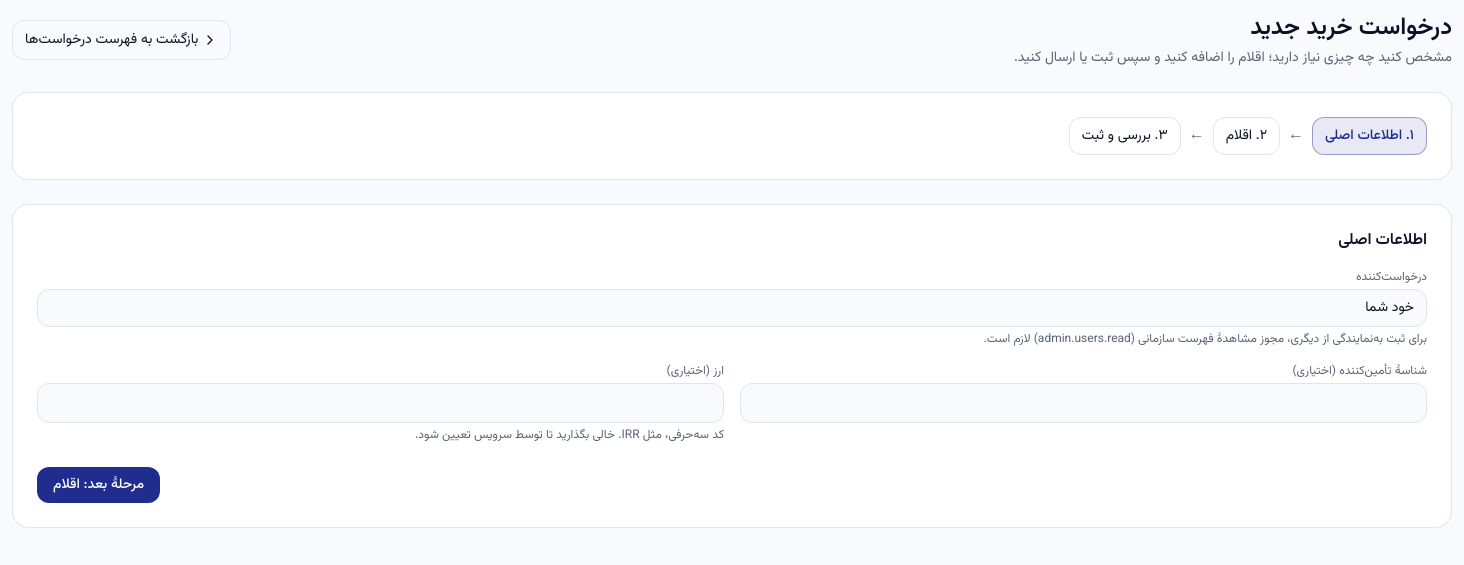
Scenario: CommercePurchaseCreateView › blocks an invalid currency at the presentation layer and stays on step 1
The width and height of the screenshot is (1464, 565).
Not a three-letter code — the field uppercases, so type exactly two letters.
Step 1. Type "ri" into the field labelled "ارز (اختیاری)" → coordinates (380, 403), box [37, 383, 724, 423]
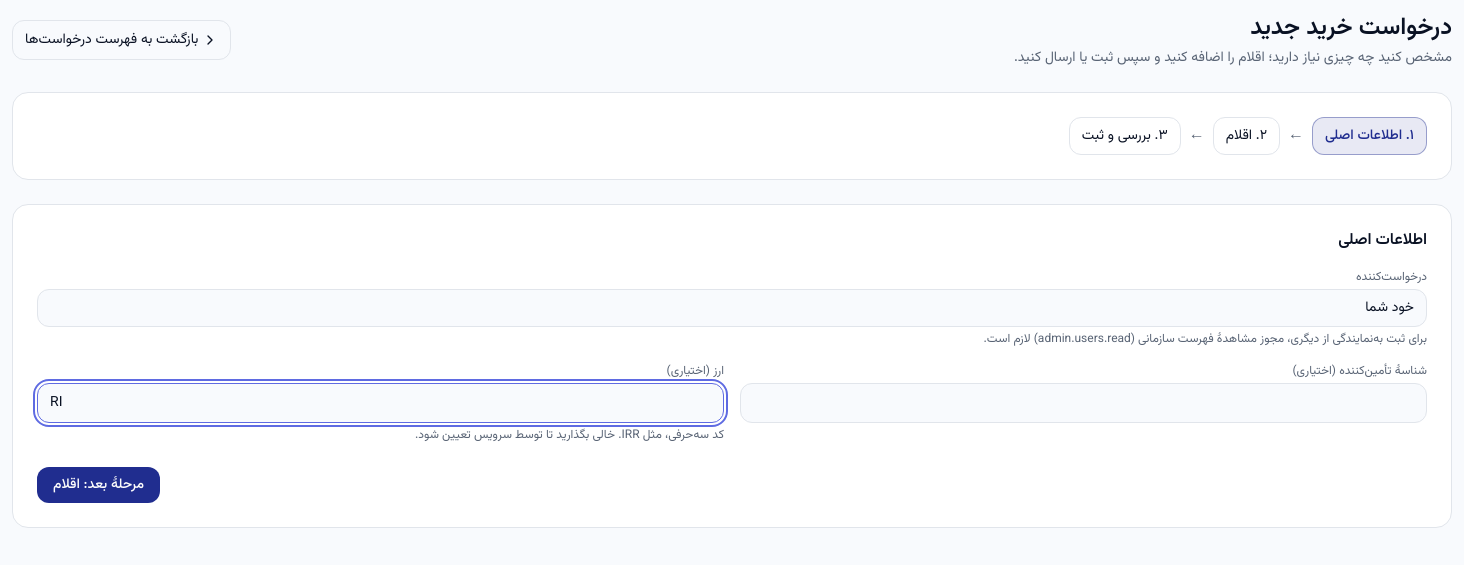
Step 2. Click the button with test id "commerce-create-next" → coordinates (99, 485), box [37, 467, 160, 503]
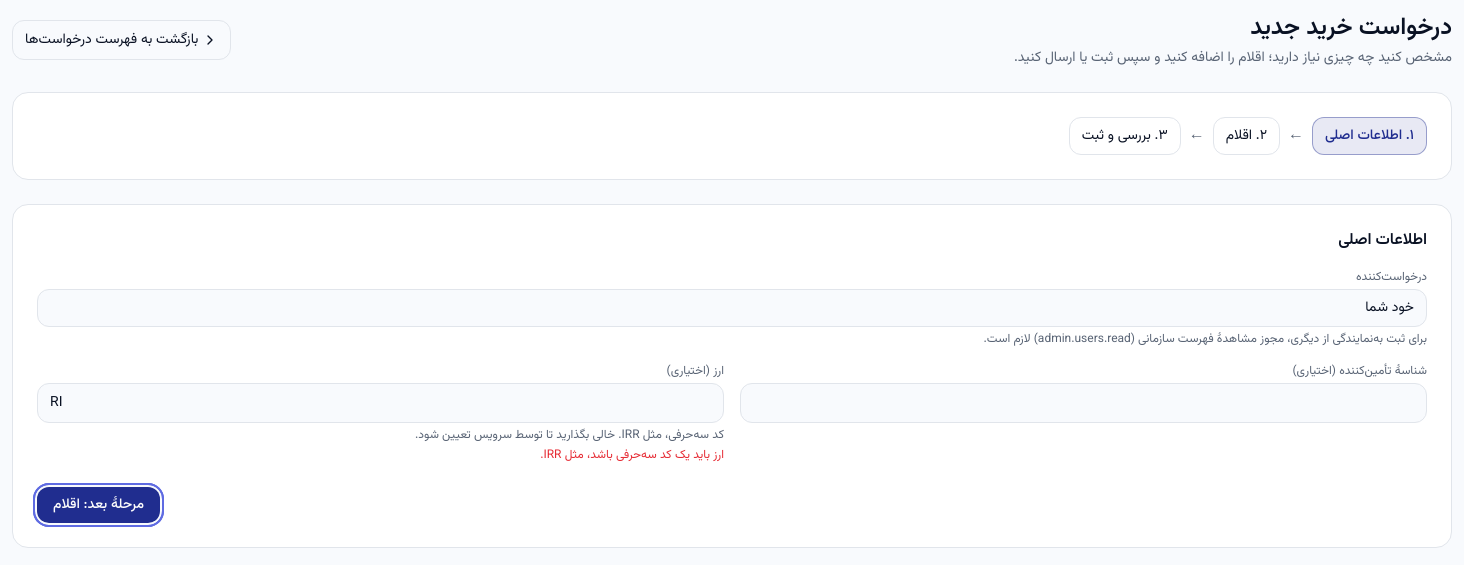
Expected: the text "ارز باید یک کد سه‌حرفی باشد، مثل IRR." is shown, [540, 446, 724, 464]
